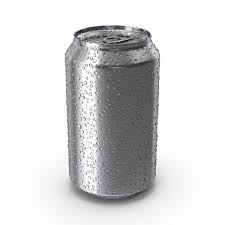can: (64, 24, 159, 201)
